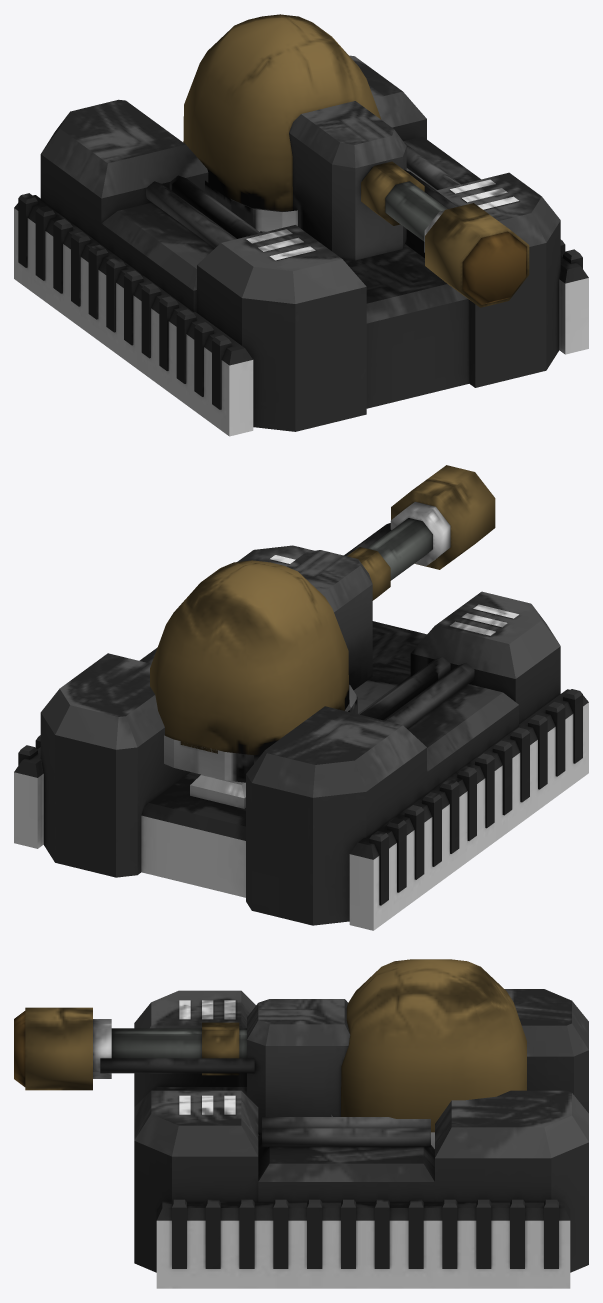
File: newshp-13-f7.glb
3 renders of one model, top to bottom at view 1: azimuth 30°, elevation 25°; view 2: azimuth 150°, elevation 25°; view 3: azimuth 270°, elevation 25°, orthographic. The views are drawn at different scales.
Parts seen in each view (by area): view 1: newshp-13-f7; view 2: newshp-13-f7; view 3: newshp-13-f7.
Boxes of the visible parts, bbox=[...] form: newshp-13-f7: bbox=[14, 14, 588, 436]; newshp-13-f7: bbox=[14, 465, 588, 930]; newshp-13-f7: bbox=[14, 959, 588, 1288].
Size of the model in its own units: 0.8917 by 0.6167 by 1.28.
14 materials, 14 textured.
